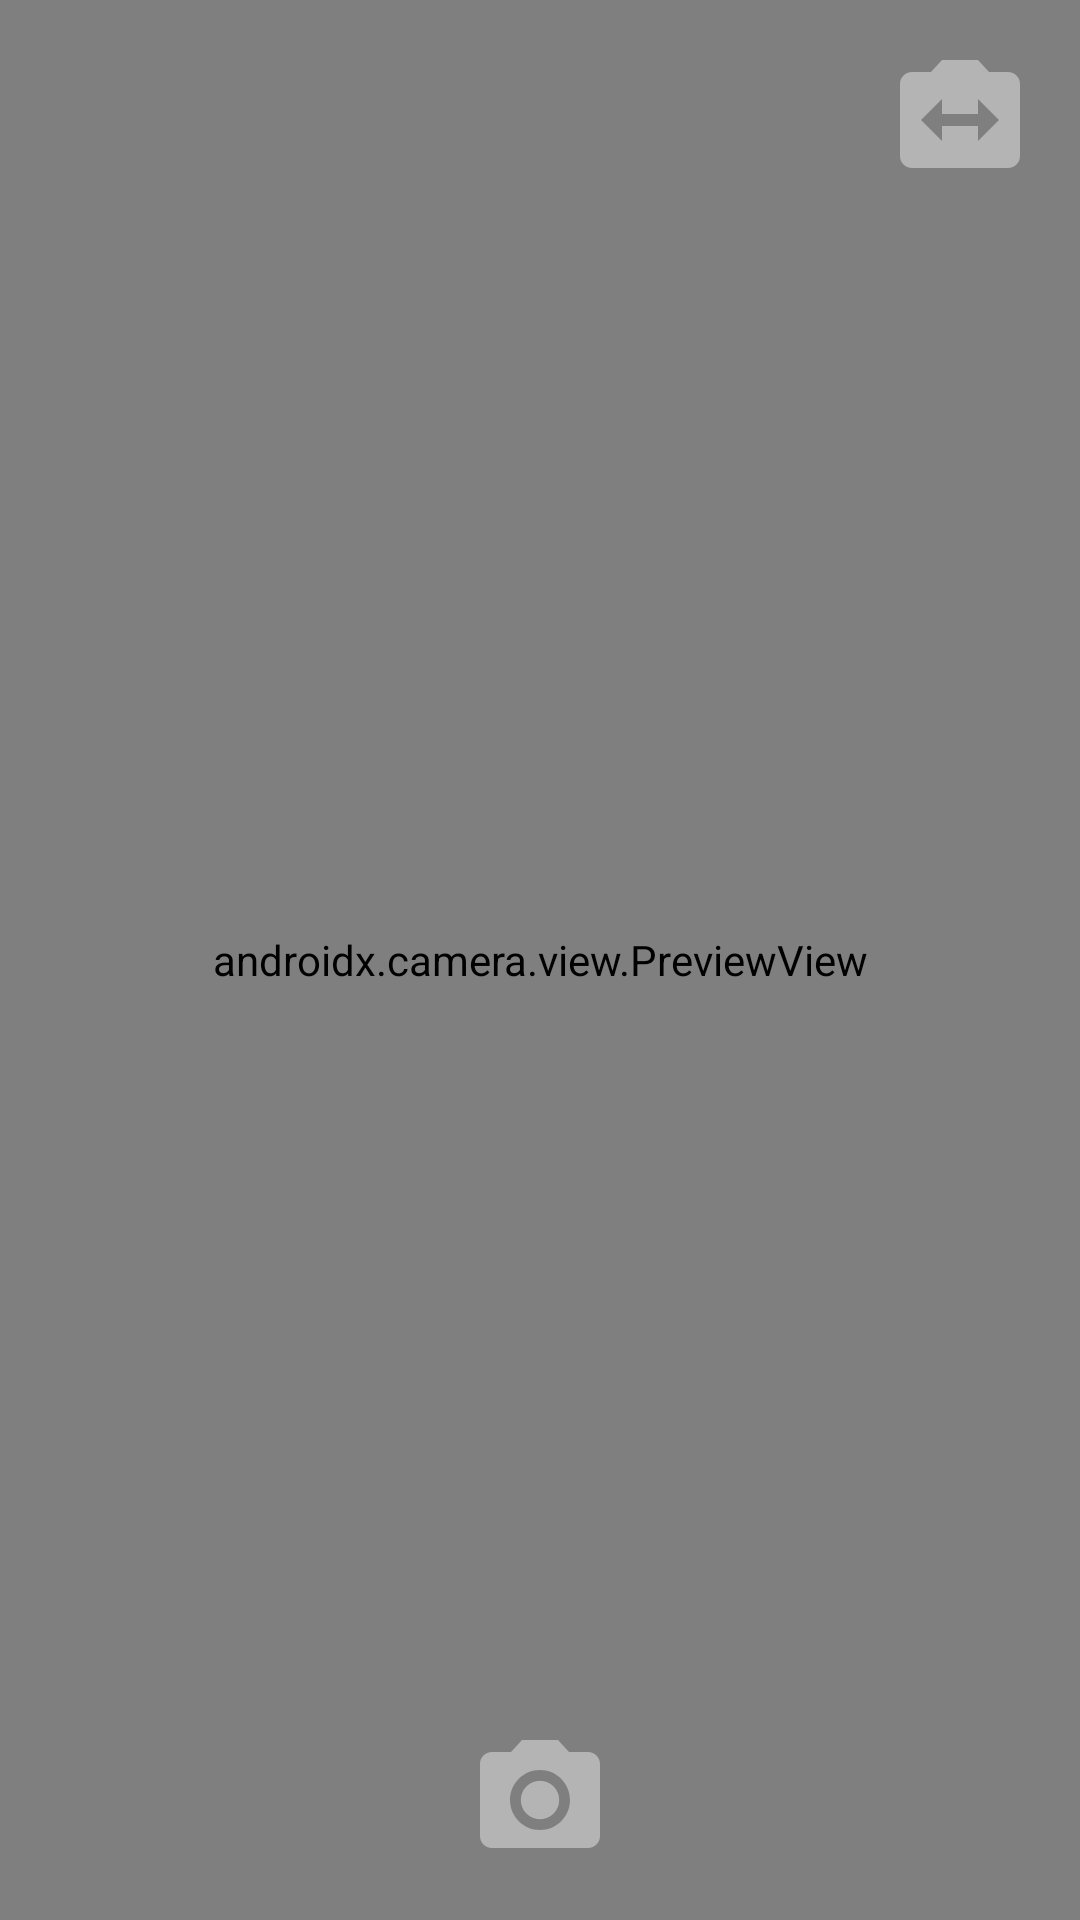

Where icons sit on this 1080w x 1920h app screen, as (x1, y1, x2, y2):
Switch Camera: (900, 60, 1020, 168)
